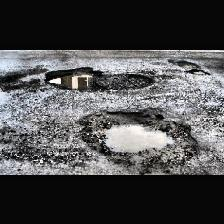pothole: (80, 108, 198, 174), (44, 64, 108, 90), (168, 58, 196, 68), (186, 68, 210, 74)
